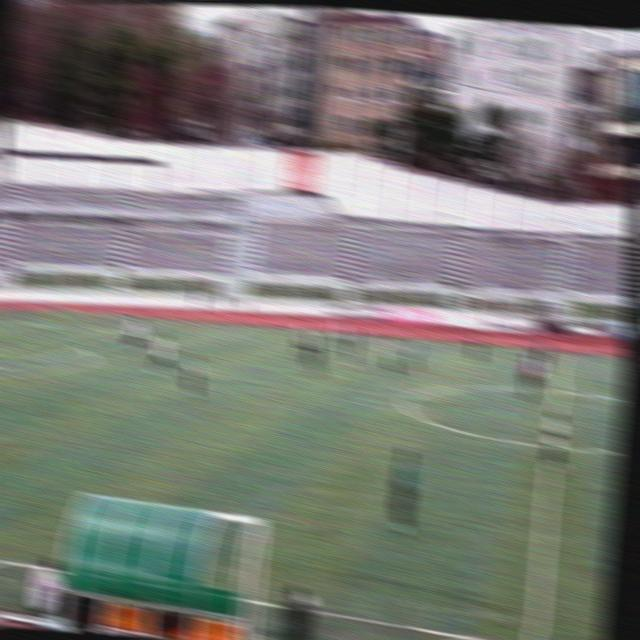bigarea_top_inner: (140, 325, 160, 344)
bigarea_top_outter: (0, 313, 7, 328)
corner: (54, 304, 76, 320)
halfcircle_top: (547, 381, 566, 404)
midline_bottom_intersection: (515, 629, 553, 640)
midline_top_intersection: (551, 344, 570, 362)
top_arc_area_intersection: (73, 341, 91, 358)
